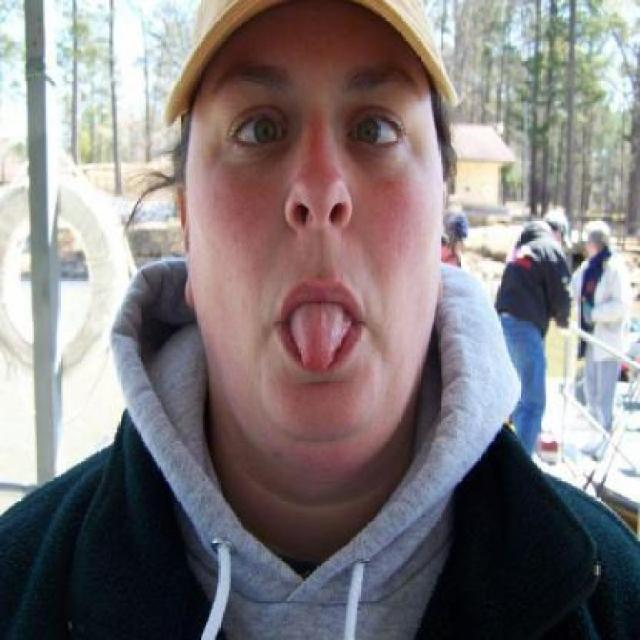awake: (348, 104, 402, 151), (230, 106, 284, 152)
